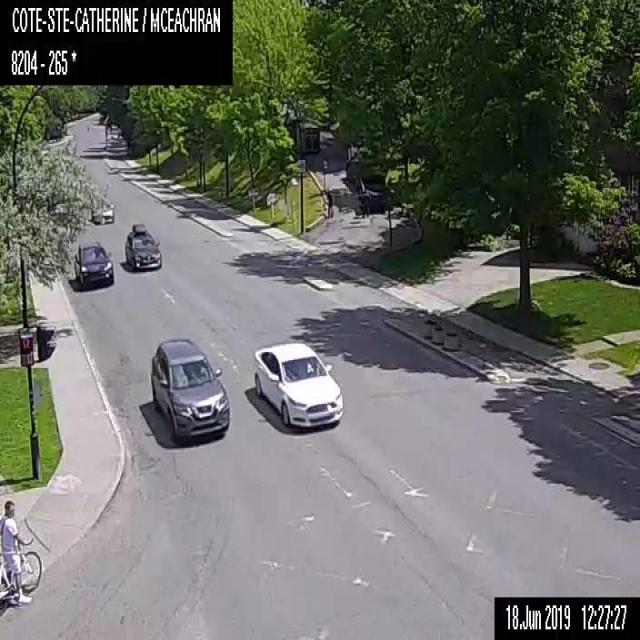cyclist: (0, 500, 42, 616)
pedestrian: (362, 188, 371, 216), (326, 190, 333, 218)
vehicle: (149, 338, 230, 442), (252, 339, 344, 428), (124, 221, 161, 271), (72, 242, 113, 286), (284, 107, 320, 153), (345, 155, 387, 194), (89, 196, 115, 225)
